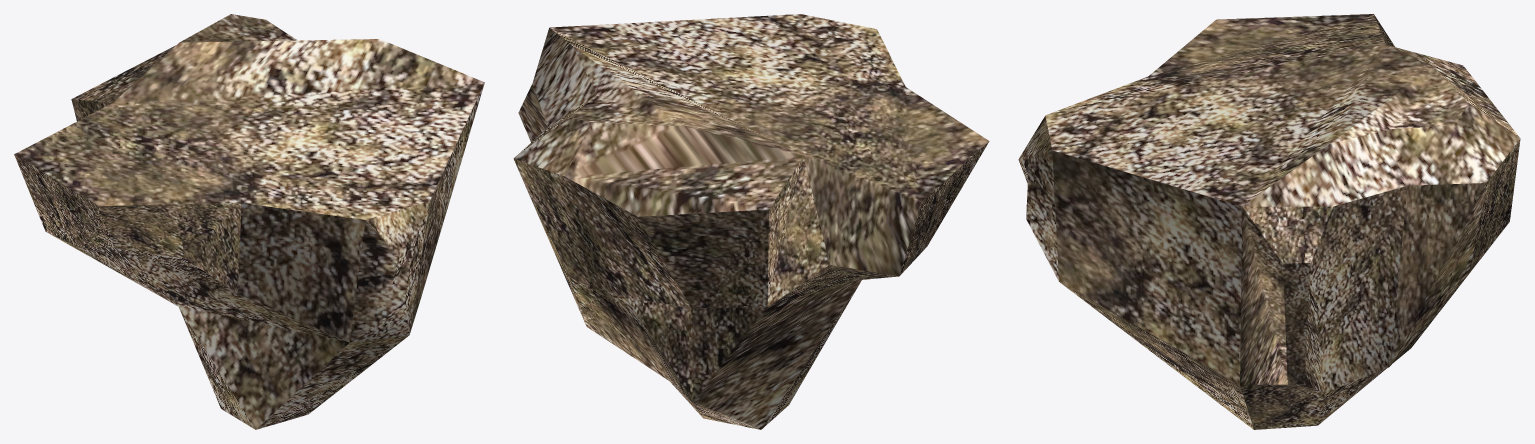
Rendered from stones_tropic_large_1.glb.
3 views of the same model, side by side, from view 1: azimuth 30°, elevation 25°; view 2: azimuth 150°, elevation 25°; view 3: azimuth 270°, elevation 25° (orthographic). The views are drawn at different scales.
Parts seen in each view (by area): view 1: stones_tropic_large_1; view 2: stones_tropic_large_1; view 3: stones_tropic_large_1.
Part boxes in pixels (left/top/right/bottom): stones_tropic_large_1: left=14, top=14, right=484, bottom=429; stones_tropic_large_1: left=513, top=14, right=989, bottom=429; stones_tropic_large_1: left=1018, top=14, right=1520, bottom=429.
Size of the model in its own units: 5.89 by 4.45 by 5.92.
1 material, 1 textured.
